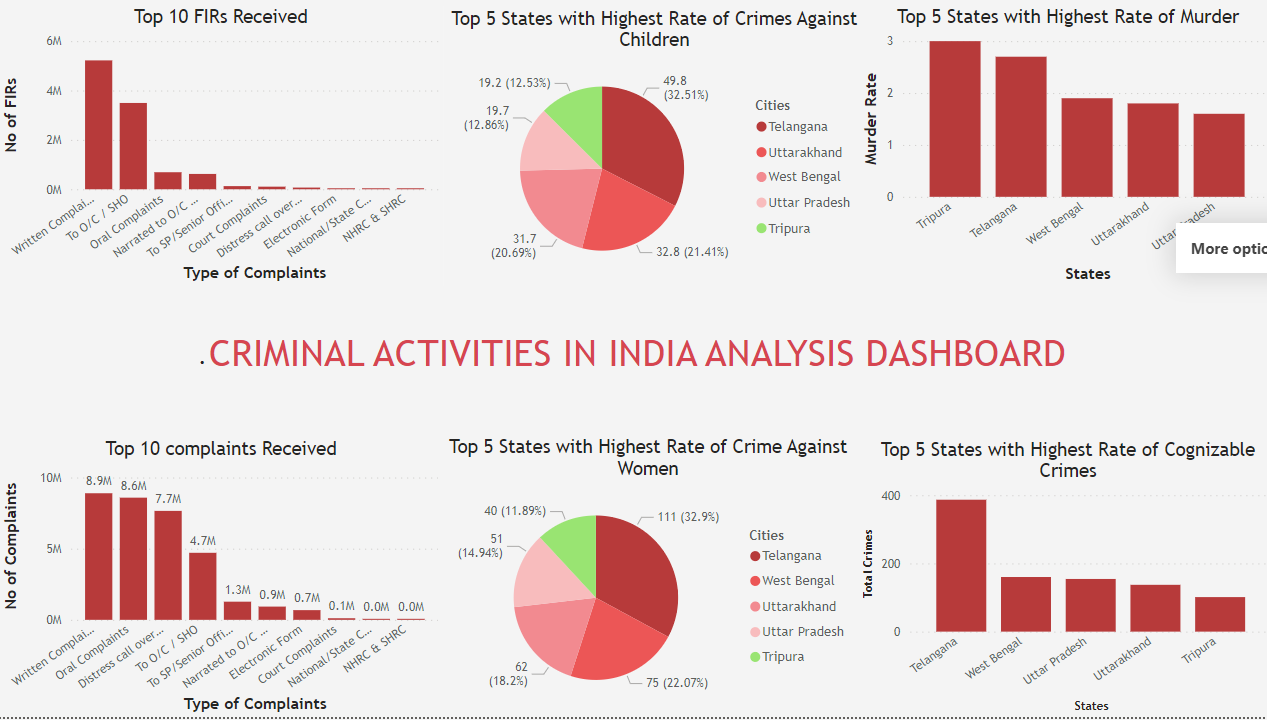

The page's visual inventory and layout, read from the dashboard file:
{"tool":"powerbi","page":{"name":"Page 1","canvas":[1280,720],"ordinal":0},"visuals":[{"type":"clusteredColumnChart","title":"Top 10 complaints Received","fields":{"Category":["Total_Complaints_Received_2019-.TypeofComplaints"],"Y":["Sum(Total_Complaints_Received_2019-.#ofComplaints)"]},"box":[0,440,446.2,280.4],"z":0},{"type":"clusteredColumnChart","title":"Top 10 FIRs Received","fields":{"Category":["Total_Complaints_Received_2019-.TypeofComplaints"],"Y":["Sum(Total_Complaints_Received_2019-.#ofFIRs)"]},"box":[0,9,445.6,281.1],"z":1000},{"type":"clusteredColumnChart","title":"Top 5 States with Highest Rate of Cognizable Crimes","fields":{"Category":["IPC_crimes_(State-UT-wise)_2019.Column3"],"Y":["IPC_crimes_(State-UT-wise)_2019.Total Crimes"]},"box":[860,441.2,420,279.2],"z":2000},{"type":"pieChart","title":"Top 5 States with Highest Rate of Crimes Against Children","fields":{"Category":["crime_against_children_(State-U.Column3"],"Y":["crime_against_children_(State-U.crimeratechildren"]},"box":[446.2,10,420,280.4],"z":3000},{"type":"clusteredColumnChart","title":"Top 5 States with Highest Rate of Murder","fields":{"Category":["murder_cases_(State-UT-wise)_20.Column3"],"Y":["murder_cases_(State-UT-wise)_20.murderrate"]},"box":[860,8.7,420,281.7],"z":4000},{"type":"textbox","box":[115.9,329,1028.2,110.9],"z":4002},{"type":"pieChart","title":"Top 5 States with Highest Rate of Crime Against Women","fields":{"Category":["crime_against_women_(State-UT-w.Column3"],"Y":["crime_against_women_(State-UT-w.crimerateagnstwomen"]},"box":[439.6,438.1,420.2,281.1],"z":4003}]}

Visuals, with their boxes in screenshot pixels (x1, y1, x2, y2), scaled from the page's 1280x720 canvas onto the 1267x720 screenshot:
"Top 10 complaints Received" clusteredColumnChart: [0,440,442,719]
"Top 10 FIRs Received" clusteredColumnChart: [0,9,441,290]
"Top 5 States with Highest Rate of Cognizable Crimes" clusteredColumnChart: [851,441,1266,719]
"Top 5 States with Highest Rate of Crimes Against Children" pieChart: [442,10,857,290]
"Top 5 States with Highest Rate of Murder" clusteredColumnChart: [851,9,1266,290]
textbox: [115,329,1132,440]
"Top 5 States with Highest Rate of Crime Against Women" pieChart: [435,438,851,719]
